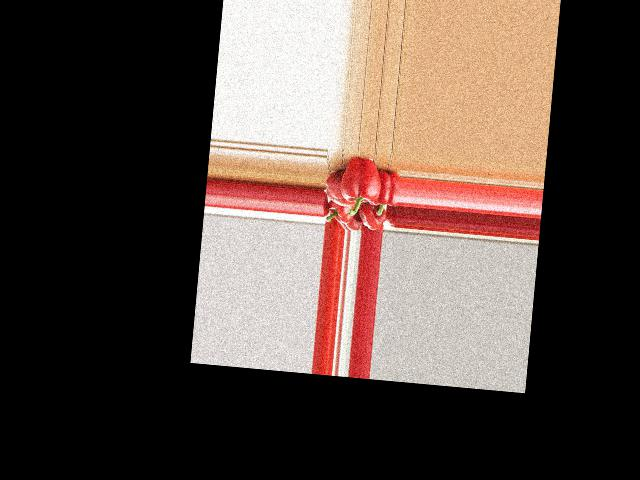bell_pepper: (323, 198, 355, 225)
